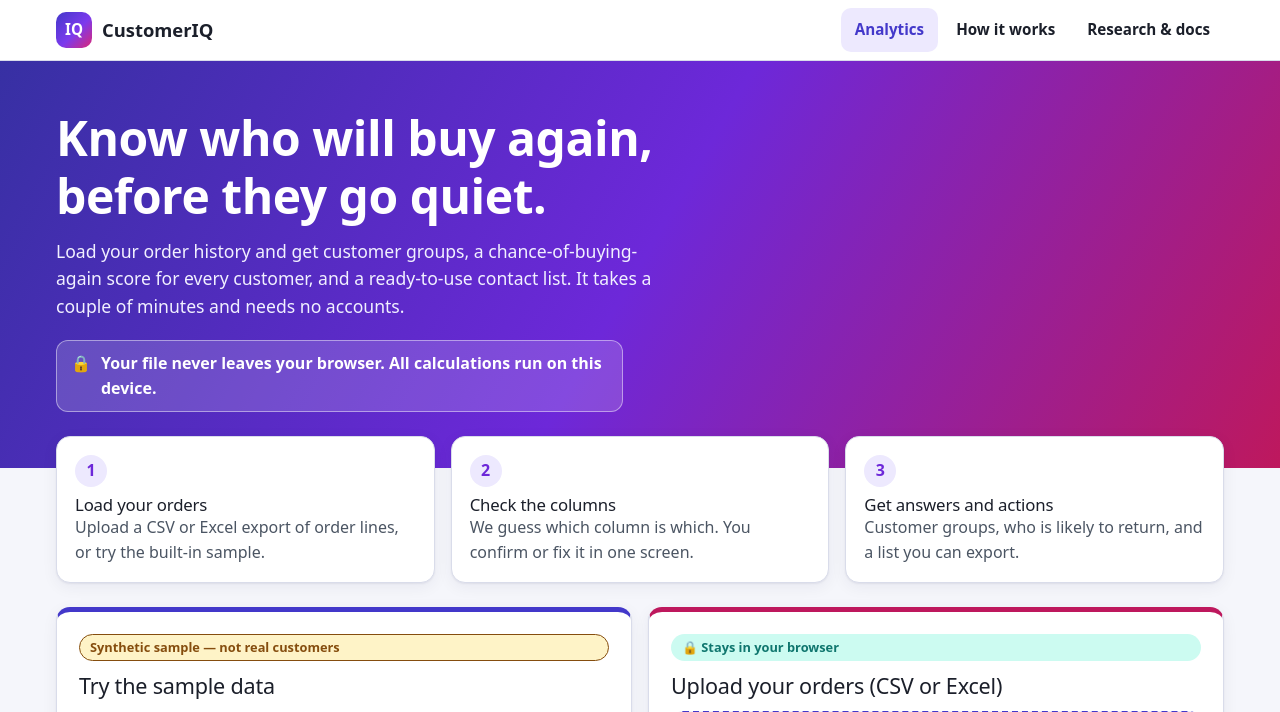
App › shows the in-app explainer from the nav
Click the link "How it works": (1006, 29) [956,19,1055,39]
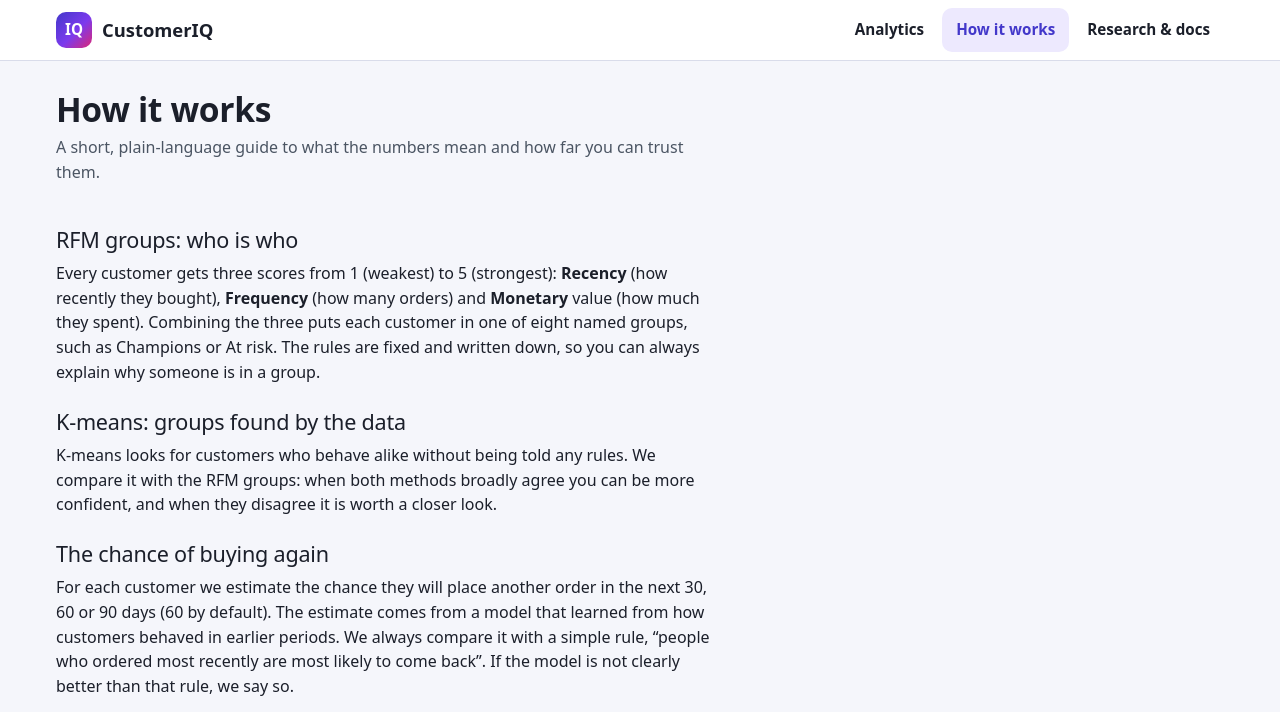
Expected: the heading "How it works" is shown, [56,86,271,132]
